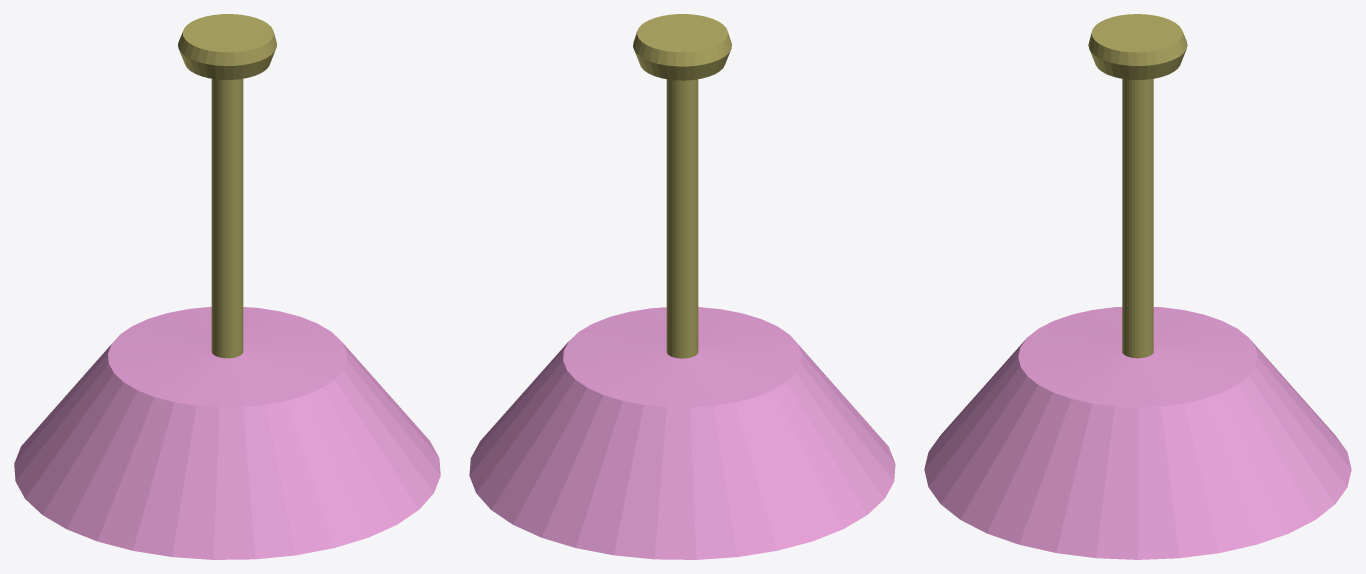
File: bedroomLamp.fbx
3 renders of one model, left to right at view 1: azimuth 30°, elevation 25°; view 2: azimuth 150°, elevation 25°; view 3: azimuth 270°, elevation 25°, orthographic.
Parts seen in each view (by area): view 1: bedroomLamp; view 2: bedroomLamp; view 3: bedroomLamp.
Part boxes in pixels (x1,y1,x2,y2): bedroomLamp: [14, 14, 440, 559]; bedroomLamp: [469, 14, 895, 559]; bedroomLamp: [924, 14, 1351, 559].
Size of the model in its own units: 92.97 by 109 by 92.97.
